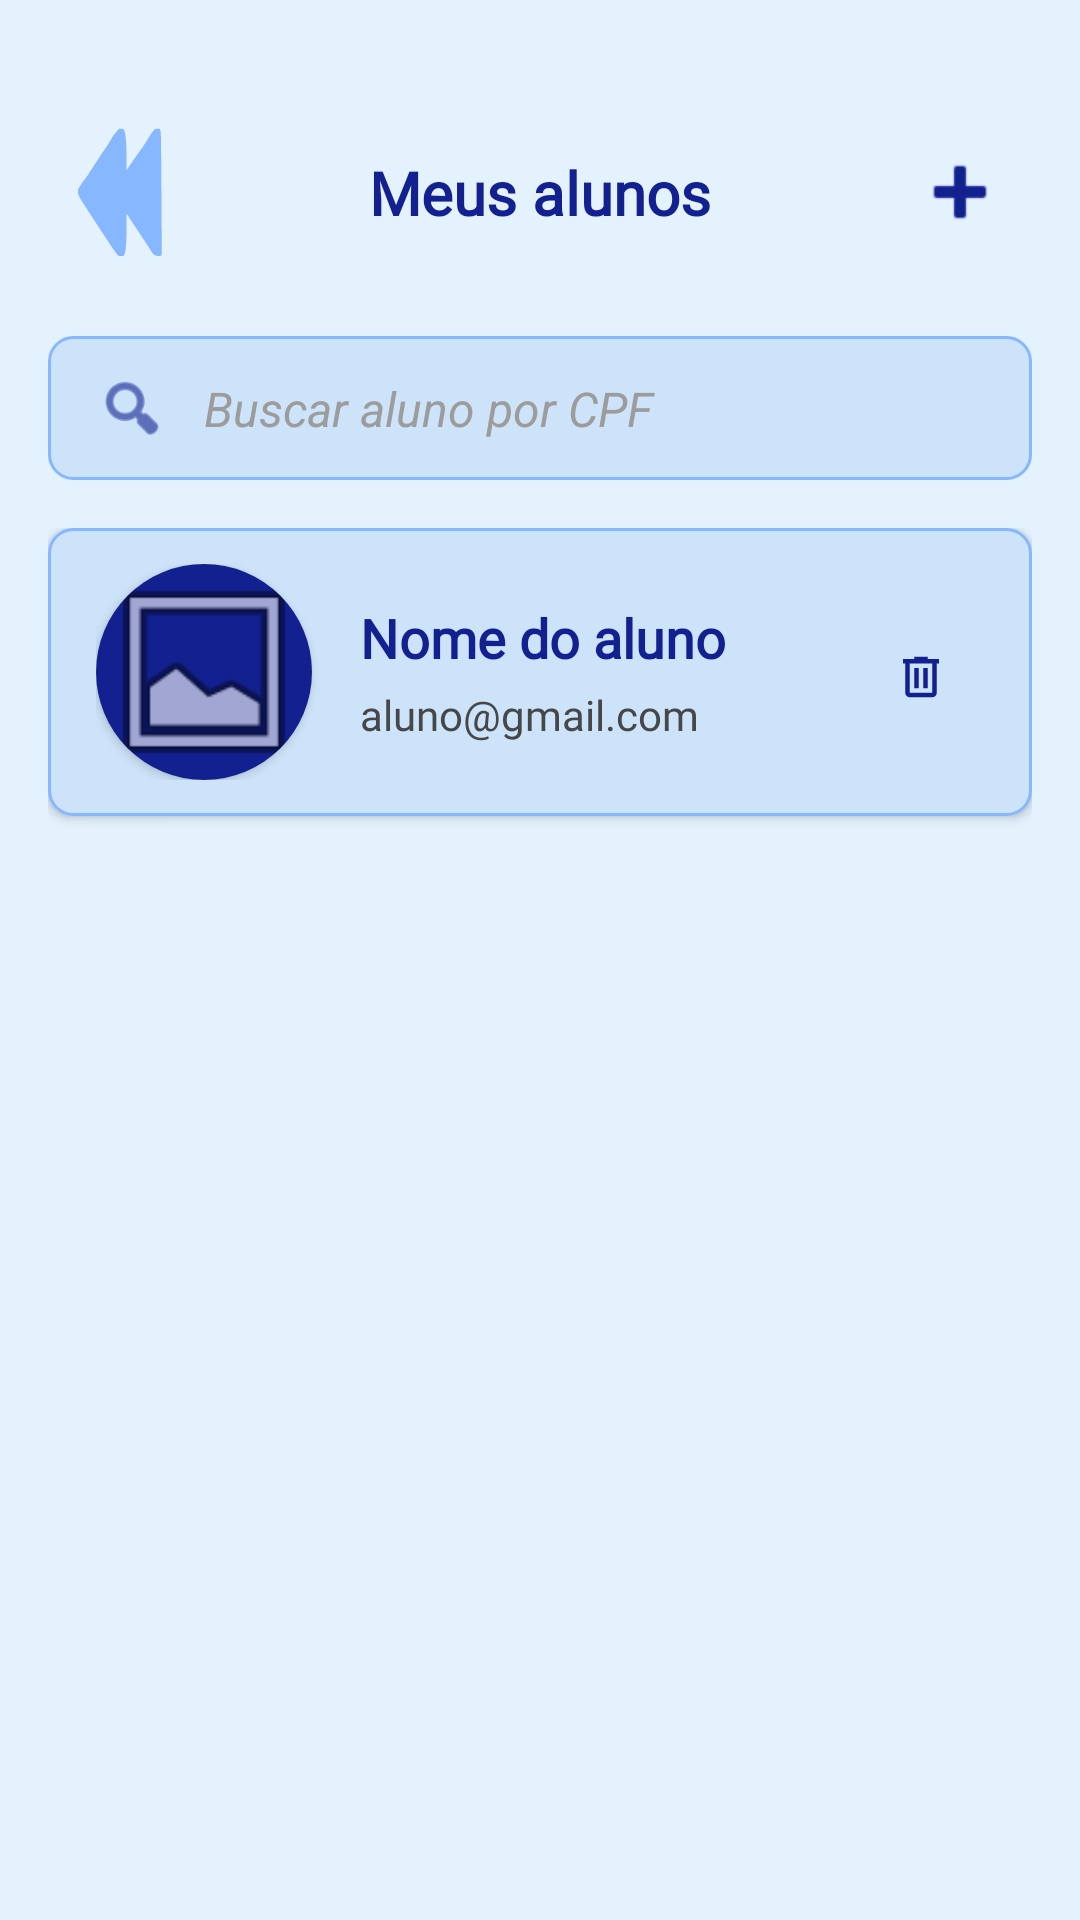

Icons on this 1080px x 1920px Android screen, each with its box as Rect(x1, y1, x2, y2):
Adicionar aluno: Rect(933, 165, 987, 219)
Excluir: Rect(903, 656, 939, 698)
Ícone de busca: Rect(105, 382, 159, 435)
